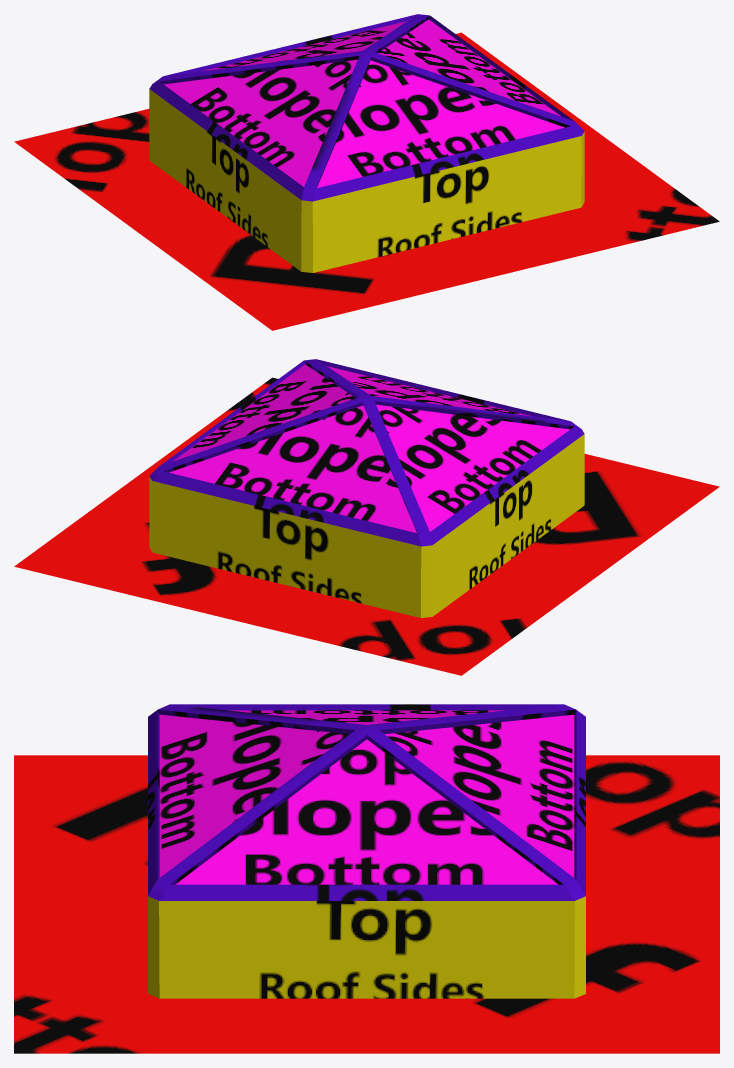
File: ENV_Roof_ThreeXThree_TypeFour.fbx
3 renders of one model, top to bottom at view 1: azimuth 30°, elevation 25°; view 2: azimuth 150°, elevation 25°; view 3: azimuth 270°, elevation 25°, orthographic. The views are drawn at different scales.
Parts seen in each view (by area): view 1: ENV_3x3_Roof_TypeFour; view 2: ENV_3x3_Roof_TypeFour; view 3: ENV_3x3_Roof_TypeFour.
Part boxes in pixels (x1,y1,x2,y2): ENV_3x3_Roof_TypeFour: (14, 14, 719, 330); ENV_3x3_Roof_TypeFour: (14, 359, 719, 675); ENV_3x3_Roof_TypeFour: (14, 704, 719, 1053).
Size of the model in its own units: 36 by 9.81 by 36.
